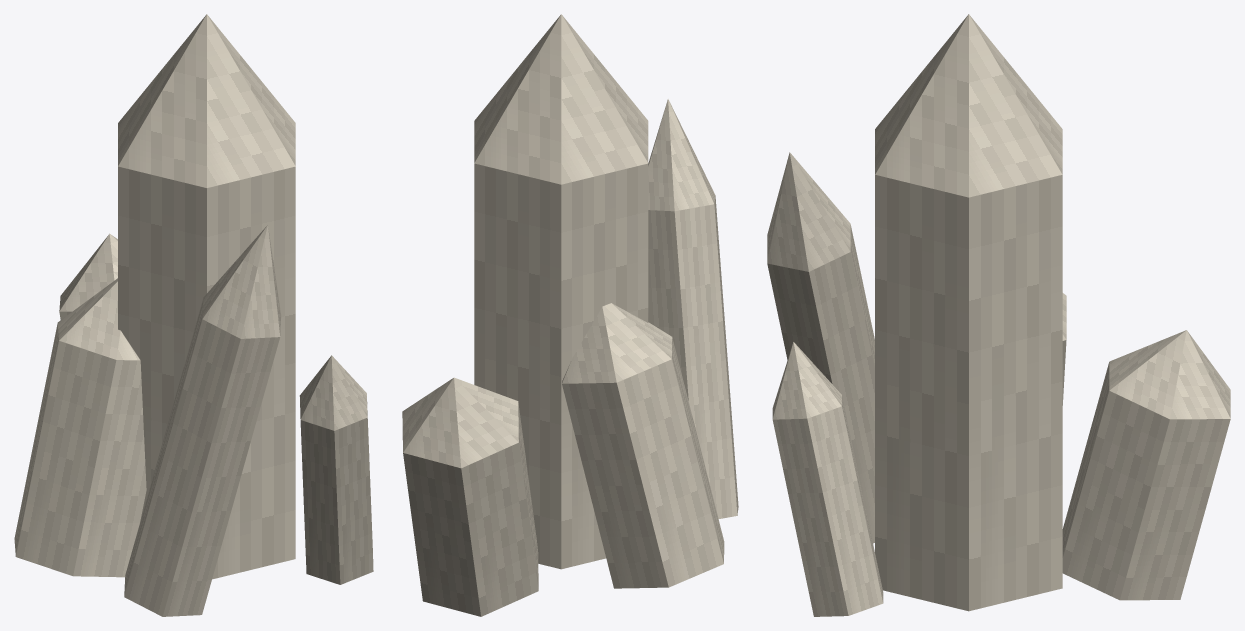
Rendered from cave-and-crystal-networks-quartz-cluster-49254807.glb.
The picture shows the model from 3 angles, left to right: view 1: azimuth 30°, elevation 25°; view 2: azimuth 150°, elevation 25°; view 3: azimuth 270°, elevation 25°; orthographic projection. The views are drawn at different scales.
Visible parts, largest first — view 1: quartz-cluster; view 2: quartz-cluster; view 3: quartz-cluster.
Part boxes in pixels (box(x1,y1,x2,y2)): quartz-cluster: box(14, 14, 373, 616); quartz-cluster: box(402, 14, 738, 616); quartz-cluster: box(767, 14, 1230, 616).
Size of the model in its own units: 0.5172 by 0.9253 by 0.6854.
1 material, 1 textured.
